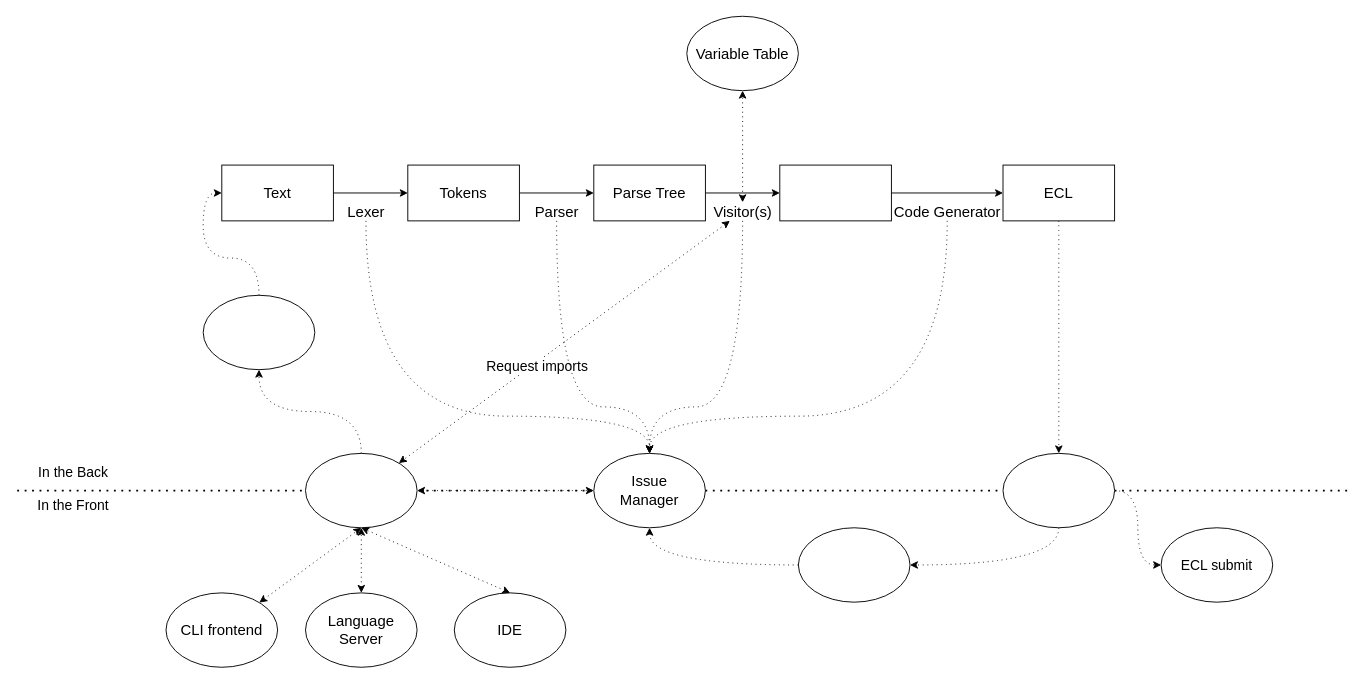
The diagram is 1364 pixels wide and 684 high, and some of its shapes have lost their labels. Here are the shapes that lost their labels. From the top down, the centre of each, then its label:
At point (835, 192): "Abstract Syntax Tree".
At point (258, 332): "File Reading Manager".
At point (361, 490): "Task Manager".
At point (1058, 490): "Writer".
At point (853, 564): "ECL syntax check".
